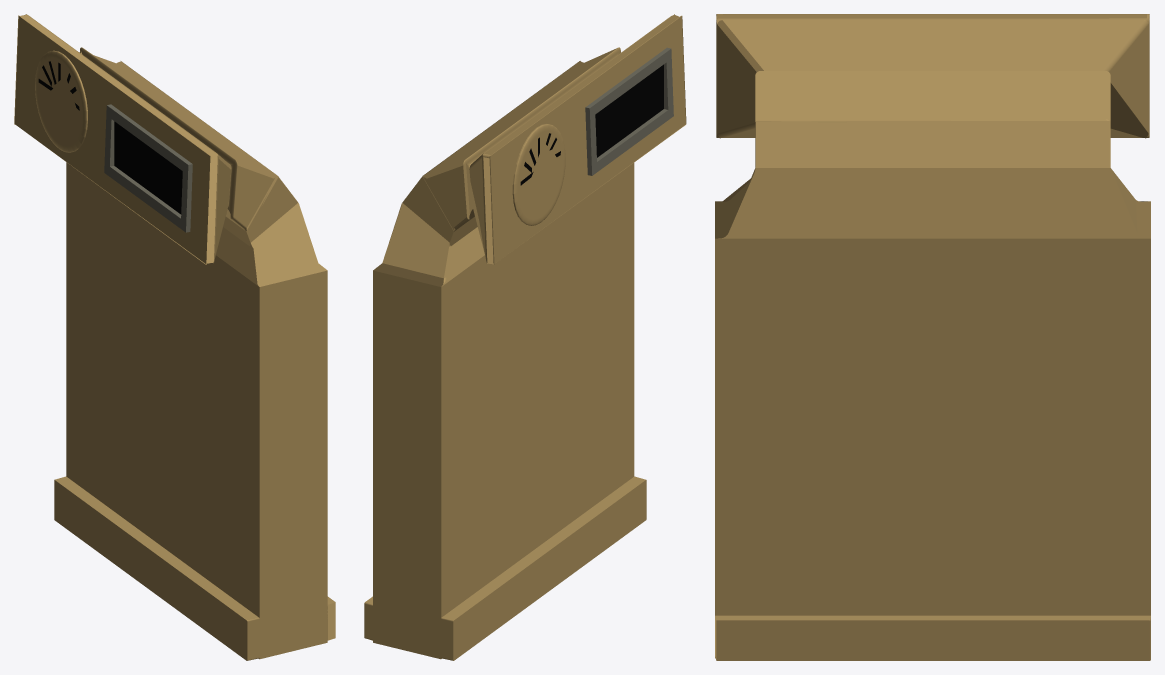
Rendered from IndustrialController_Base.fbx.
3 views of the same model, side by side, from view 1: azimuth 30°, elevation 25°; view 2: azimuth 150°, elevation 25°; view 3: azimuth 270°, elevation 25° (orthographic). The views are drawn at different scales.
Parts seen in each view (by area): view 1: Base; view 2: Base; view 3: Base.
Boxes of the visible parts, x1=… form: Base: x1=14, y1=14, x2=335, y2=660; Base: x1=364, y1=14, x2=686, y2=660; Base: x1=715, y1=14, x2=1150, y2=660.
Size of the model in its own units: 0.4945 by 1.82 by 1.24.
